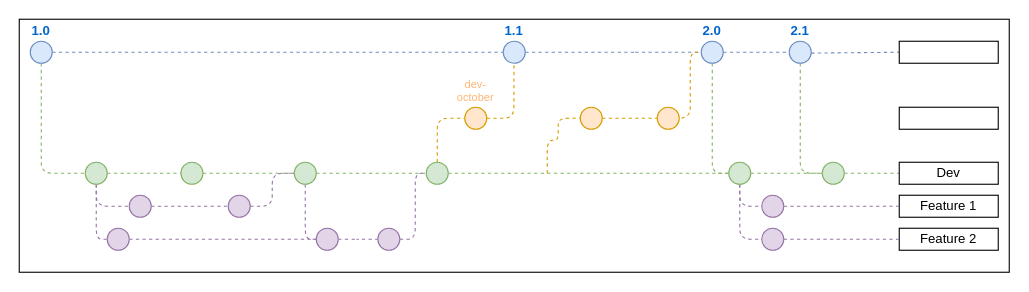
Image size: 1029x292. Some labels were removed from this diagram. The centre of each missing label's shape, as x and y in pixels:
"dev-december" goes at pixel 667 117.
"dev-november" goes at pixel 590 117.
"Main" goes at pixel 948 51.
"monthly" goes at pixel 948 117.
